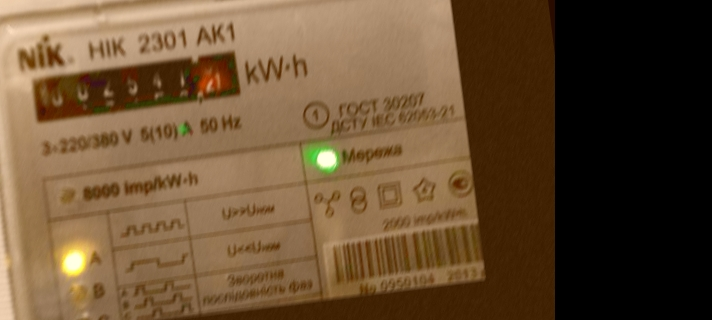0: (45, 81, 66, 109), (73, 75, 90, 103)
1: (172, 60, 188, 89)
2: (96, 71, 115, 98)
4: (148, 64, 164, 89)
5: (121, 67, 142, 97)
6: (200, 74, 218, 93)
screen: (17, 35, 257, 135)
